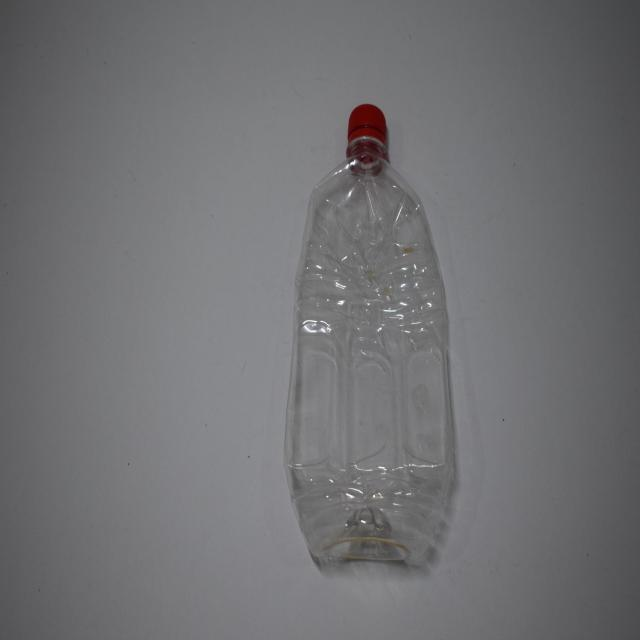empty: (285, 124, 453, 563)
